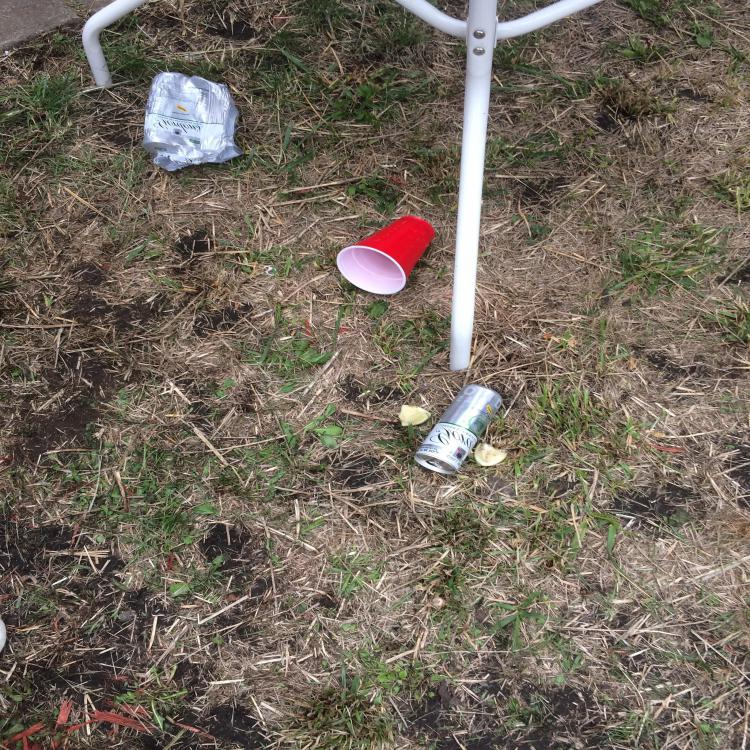Disposable plastic cup: (336, 216, 435, 294)
Drink can: (414, 384, 503, 474)
Plastic film: (142, 72, 245, 171)
Pop tab: (263, 266, 277, 276)
